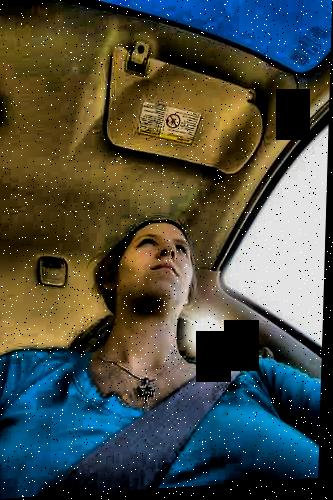seatbelt: (62, 342, 275, 496)
